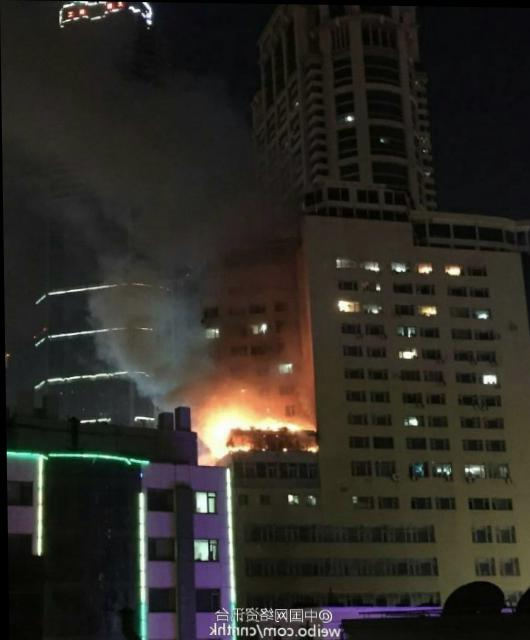fire: (199, 399, 315, 461)
